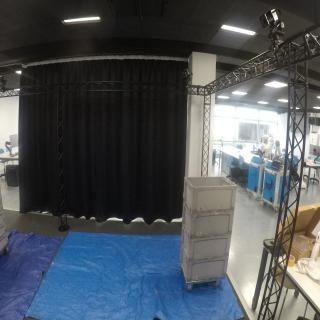Box4G: (183, 177, 238, 216), (180, 248, 230, 287), (181, 209, 237, 241), (180, 234, 233, 264)
